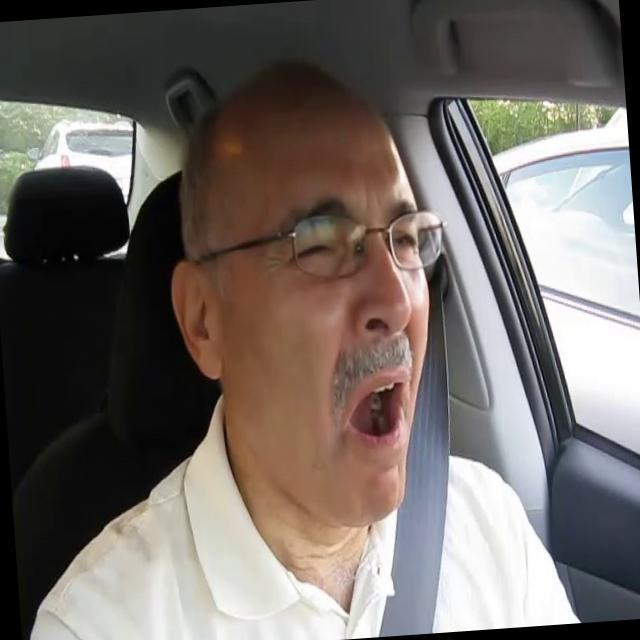Eye-Close: (297, 234, 345, 266)
Yawning: (342, 367, 414, 454)
